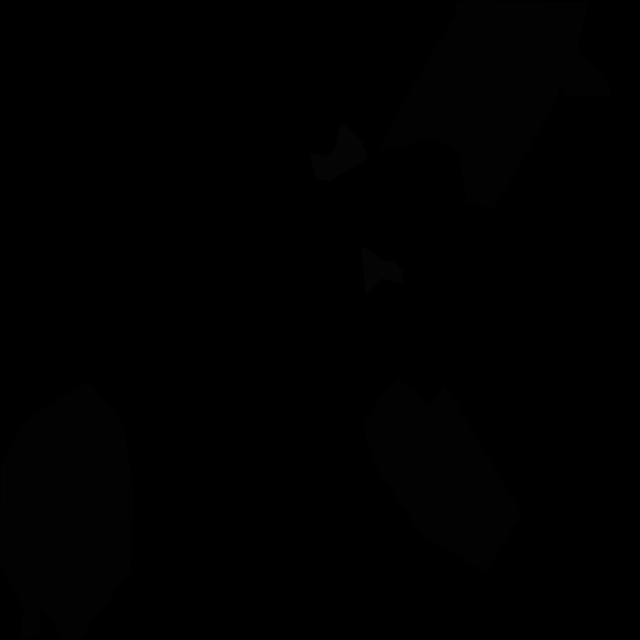cardboard: (377, 0, 612, 209), (0, 381, 134, 639), (364, 378, 522, 572), (21, 611, 40, 639)
soft_plastic: (309, 122, 368, 181), (361, 245, 402, 295)
